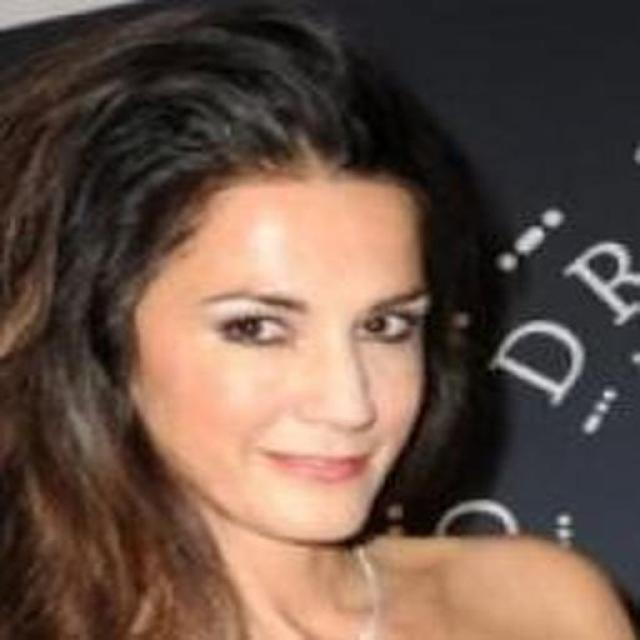bareface: (11, 54, 428, 536)
